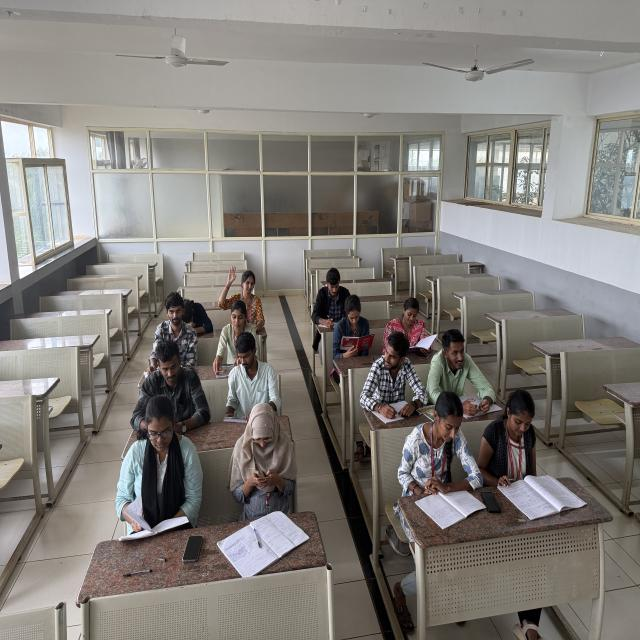Hand Rising: (215, 262, 268, 319)
Reading: (116, 392, 205, 548), (402, 391, 488, 524), (481, 386, 546, 507), (223, 332, 281, 424), (331, 293, 380, 370), (382, 295, 441, 353), (314, 264, 349, 334)
Using Phone: (230, 399, 298, 525)
Writing: (360, 331, 429, 427), (148, 289, 202, 375)
